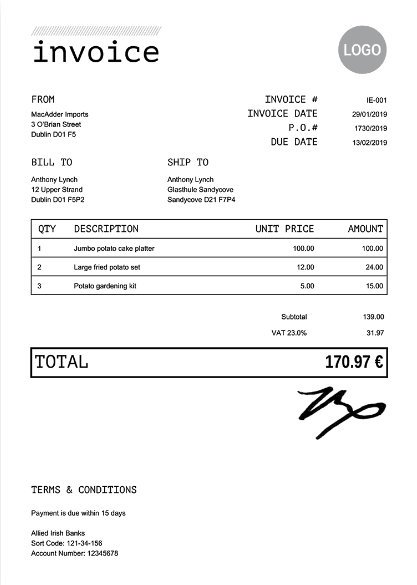Table: (21, 210, 397, 305)
